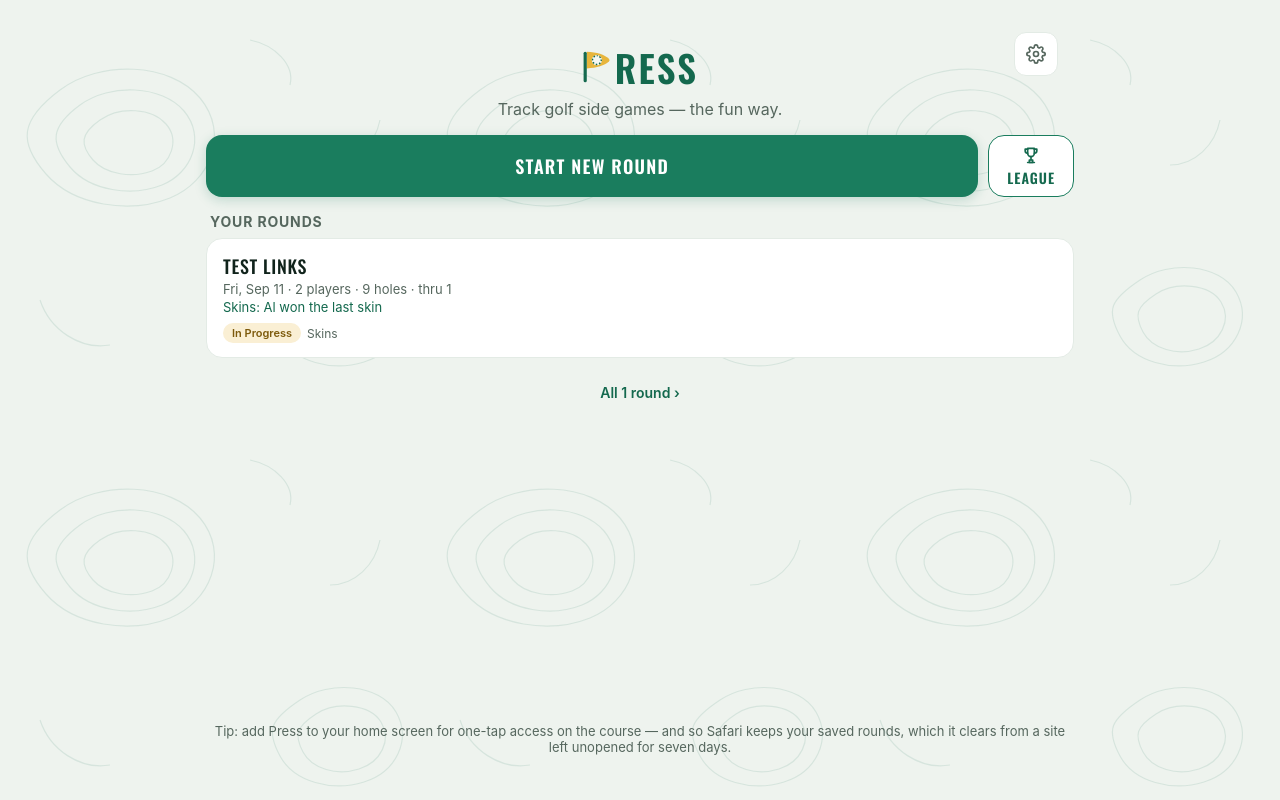
Test: App navigation › takes a saved round straight to Play, and back out again
What coordinates should you click on to do the following:
click the text "Test Links"
I would click on:
 (265, 266)
Its box is left=223, top=253, right=307, bottom=279.
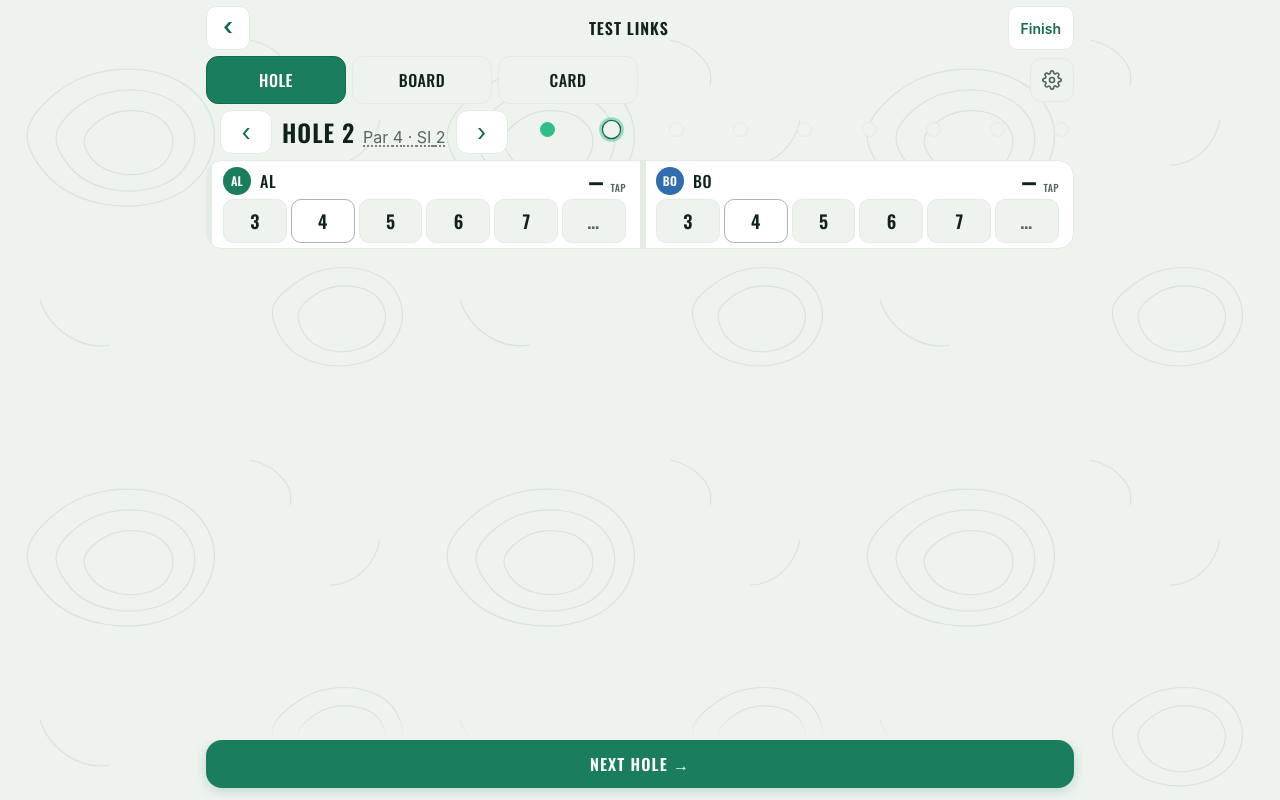
expect the button "Finish" is shown: met, box left=1008, top=6, right=1074, bottom=50
